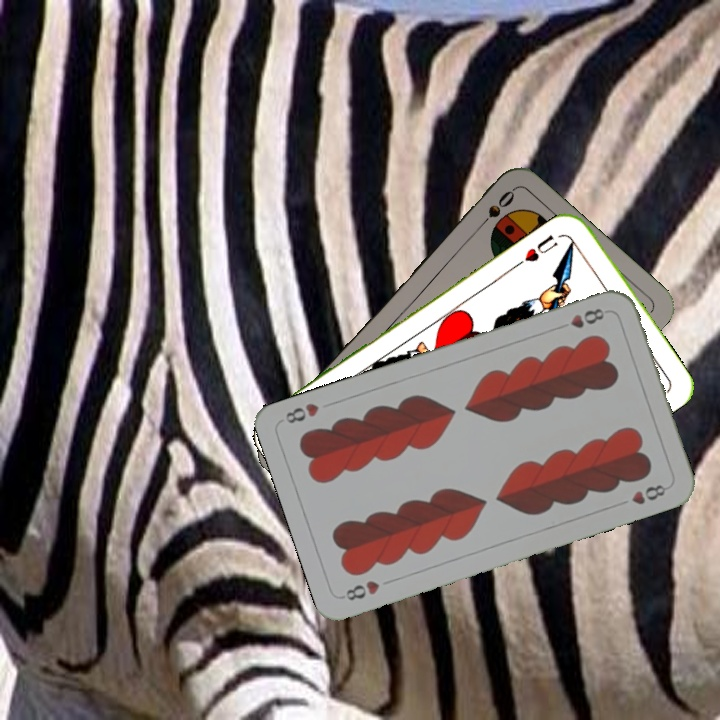H8: (553, 304, 607, 333), (338, 576, 383, 604)
HU: (520, 230, 561, 265)
SO: (472, 186, 518, 234)
